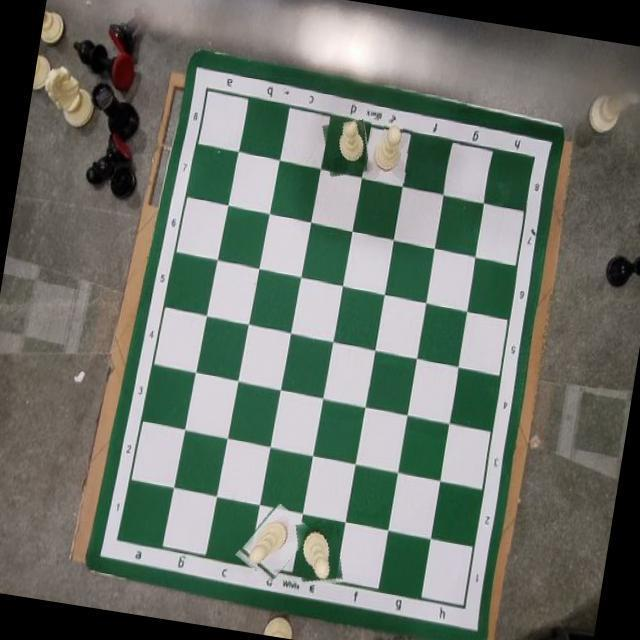chess-table-corners: (519, 139, 548, 175), (448, 588, 480, 618), (188, 75, 222, 102), (105, 526, 134, 551)
